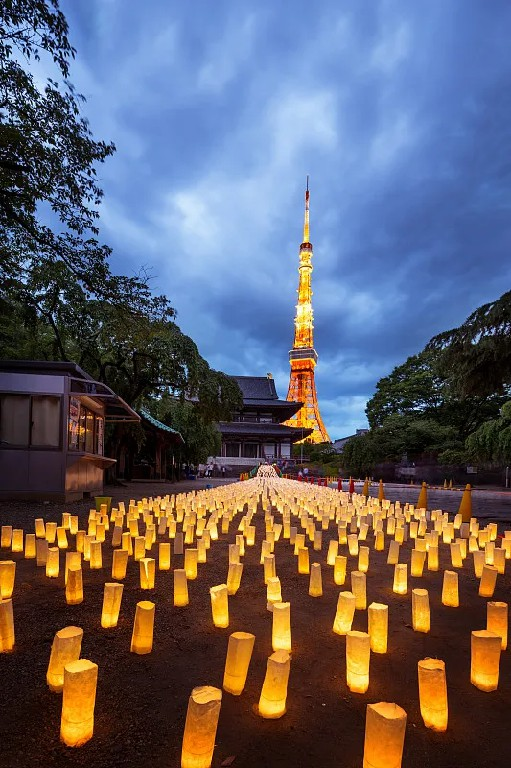Tokyo: (276, 170, 332, 448)
